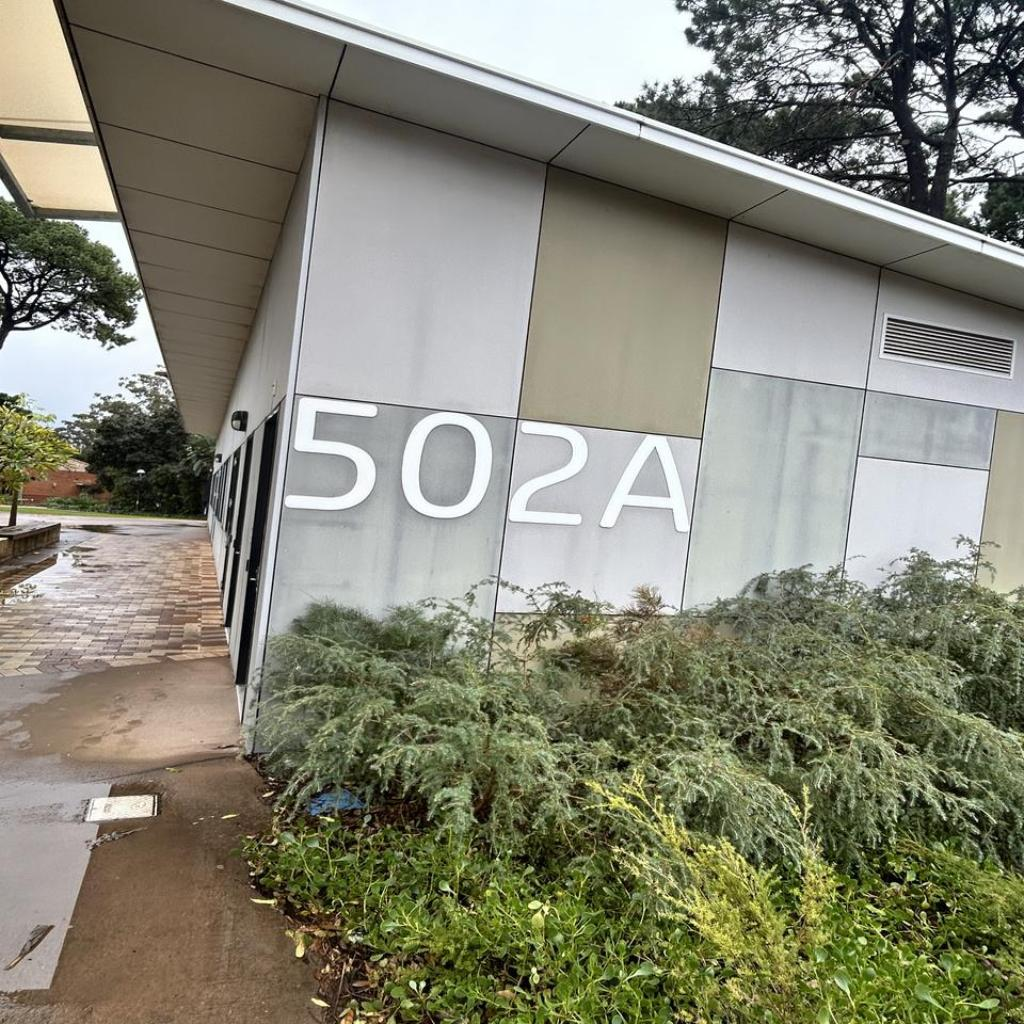BuildingCodes: (280, 388, 694, 544)
